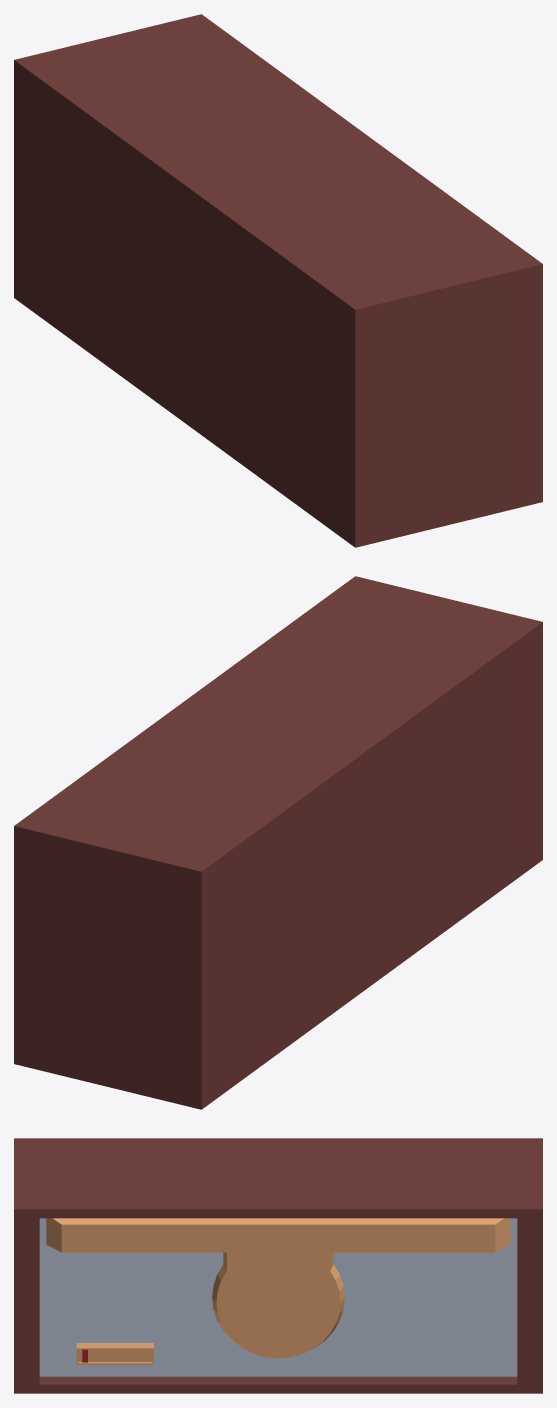
File: radio.fbx
The picture shows the model from 3 angles, top to bottom: view 1: azimuth 30°, elevation 25°; view 2: azimuth 150°, elevation 25°; view 3: azimuth 270°, elevation 25°; orthographic projection. The views are drawn at different scales.
Visible parts, largest first — view 1: Cube; view 2: Cube; view 3: Cube, Cylinder.
Boxes of the visible parts, x1,y1,x2,y2 form: Cube: (14,14,542,547); Cube: (14,576,542,1109); Cube: (14,1138,542,1393); Cylinder: (46,1218,510,1364).
Bounding box in the file's own units: 200 × 242 × 630.
Materials: 2 (2 with a texture image).
